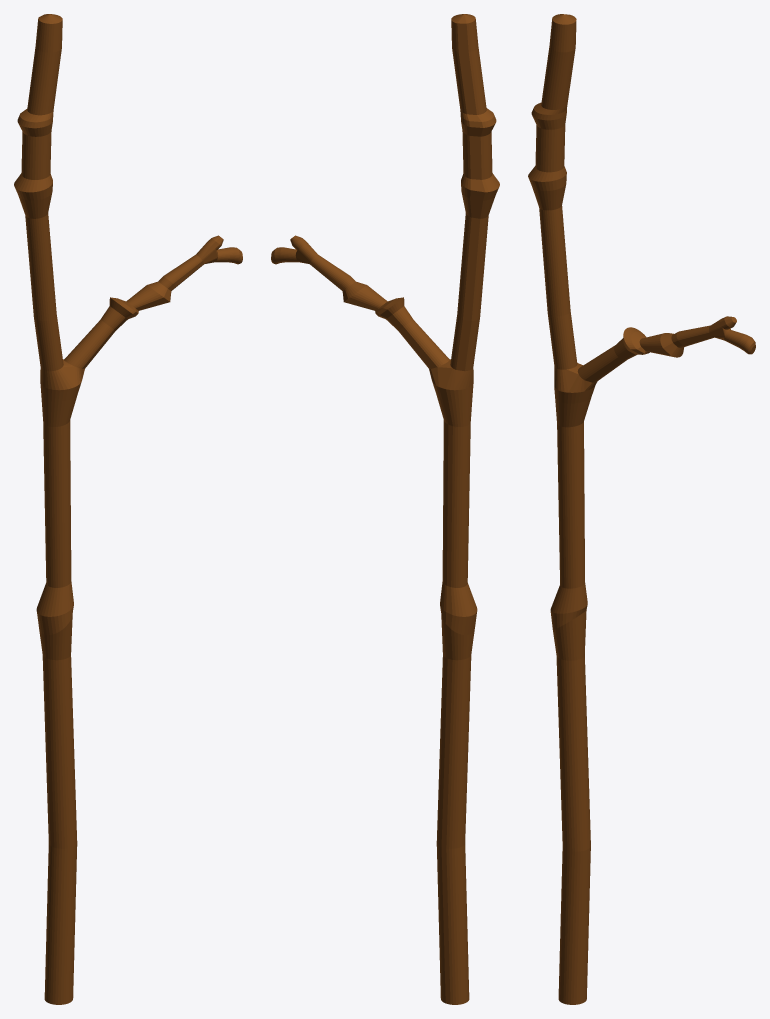
The model's file is ветка (1).fbx.
The picture shows the model from 3 angles, left to right: view 1: azimuth 30°, elevation 25°; view 2: azimuth 150°, elevation 25°; view 3: azimuth 330°, elevation 25°; orthographic projection.
Visible parts, largest first — view 1: ветка; view 2: ветка; view 3: ветка.
Boxes of the visible parts, x1,y1,x2,y2 form: ветка: (14,14,242,1004); ветка: (271,14,499,1004); ветка: (528,14,755,1004).
Bounding box in the file's own units: 123 × 519 × 19.86.
